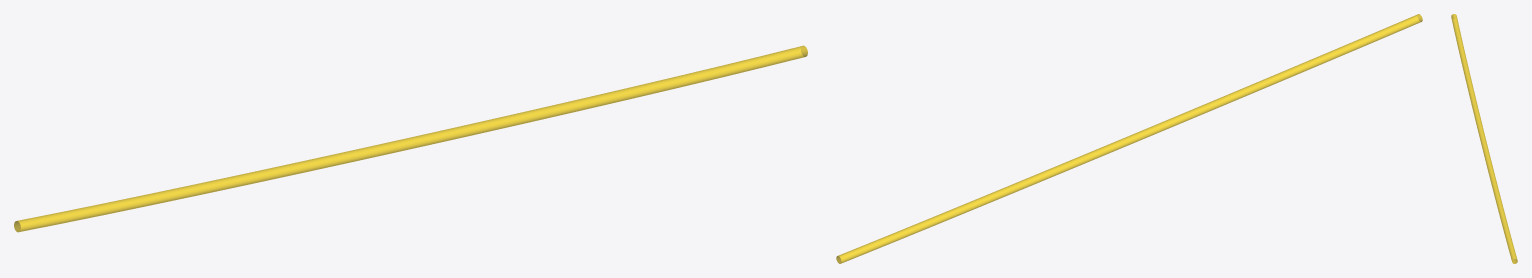
File: Event_17758602_track_78.fbx
3 renders of one model, left to right at view 1: azimuth 30°, elevation 25°; view 2: azimuth 210°, elevation 25°; view 3: azimuth 270°, elevation 25°, orthographic. The views are drawn at different scales.
Parts seen in each view (by area): view 1: Model; view 2: Model; view 3: Model.
Boxes of the visible parts, x1=… form: Model: x1=14, y1=45, x2=807, y2=232; Model: x1=836, y1=14, x2=1422, y2=263; Model: x1=1451, y1=14, x2=1517, y2=263.
Size of the model in its own units: 3.39 by 0.3305 by 0.4611.
